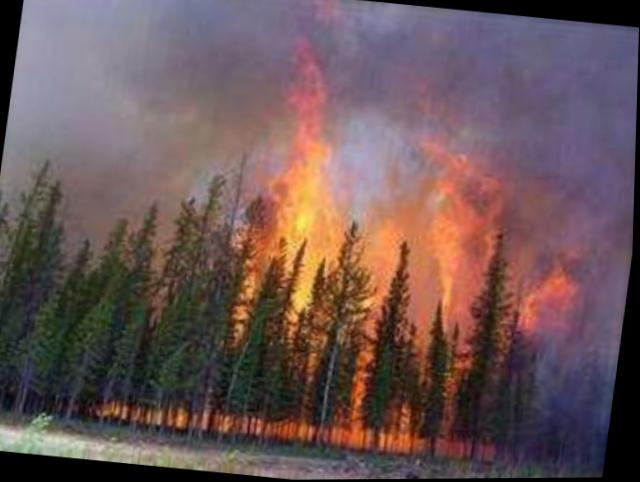fire: (97, 21, 612, 472)
